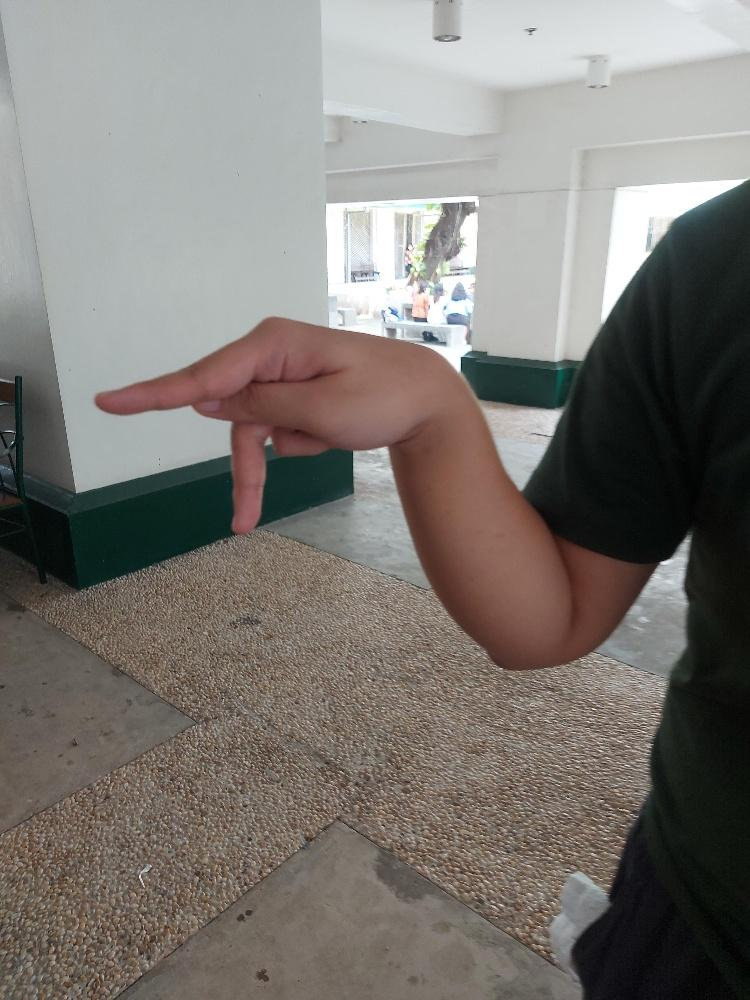p: (92, 310, 423, 533)
